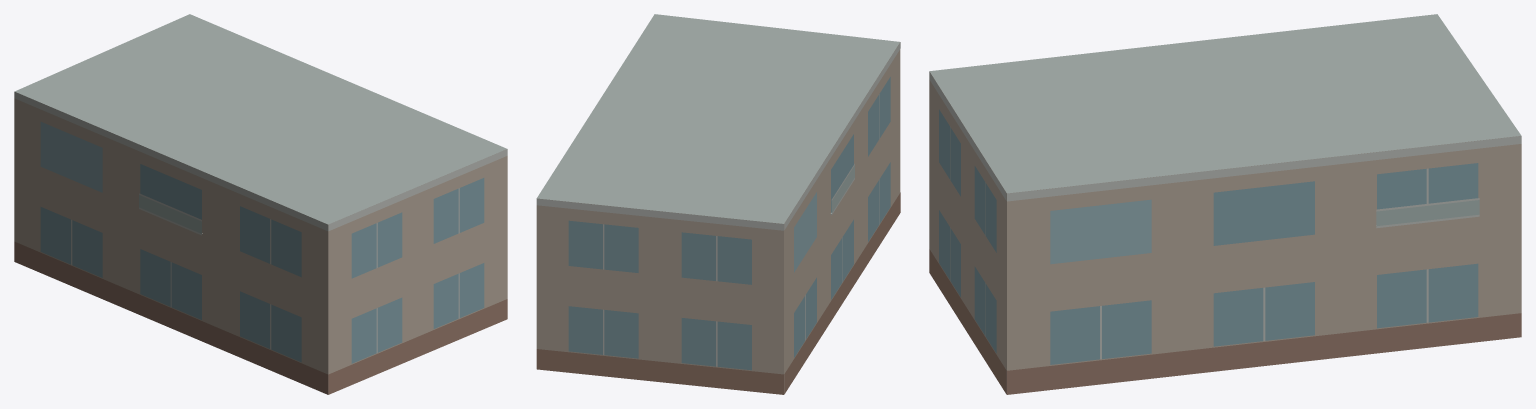
File: survey-upis-32824085.glb
The picture shows the model from 3 angles, left to right: view 1: azimuth 30°, elevation 25°; view 2: azimuth 150°, elevation 25°; view 3: azimuth 270°, elevation 25°; orthographic projection. The views are drawn at different scales.
Parts seen in each view (by area): view 1: survey-upis-32824085.tmp; view 2: survey-upis-32824085.tmp; view 3: survey-upis-32824085.tmp.
Part boxes in pixels (x1,y1,x2,y2): survey-upis-32824085.tmp: [14, 14, 507, 394]; survey-upis-32824085.tmp: [536, 14, 900, 394]; survey-upis-32824085.tmp: [929, 14, 1521, 394].
Size of the model in its own units: 11.67 by 6.1 by 16.27.
